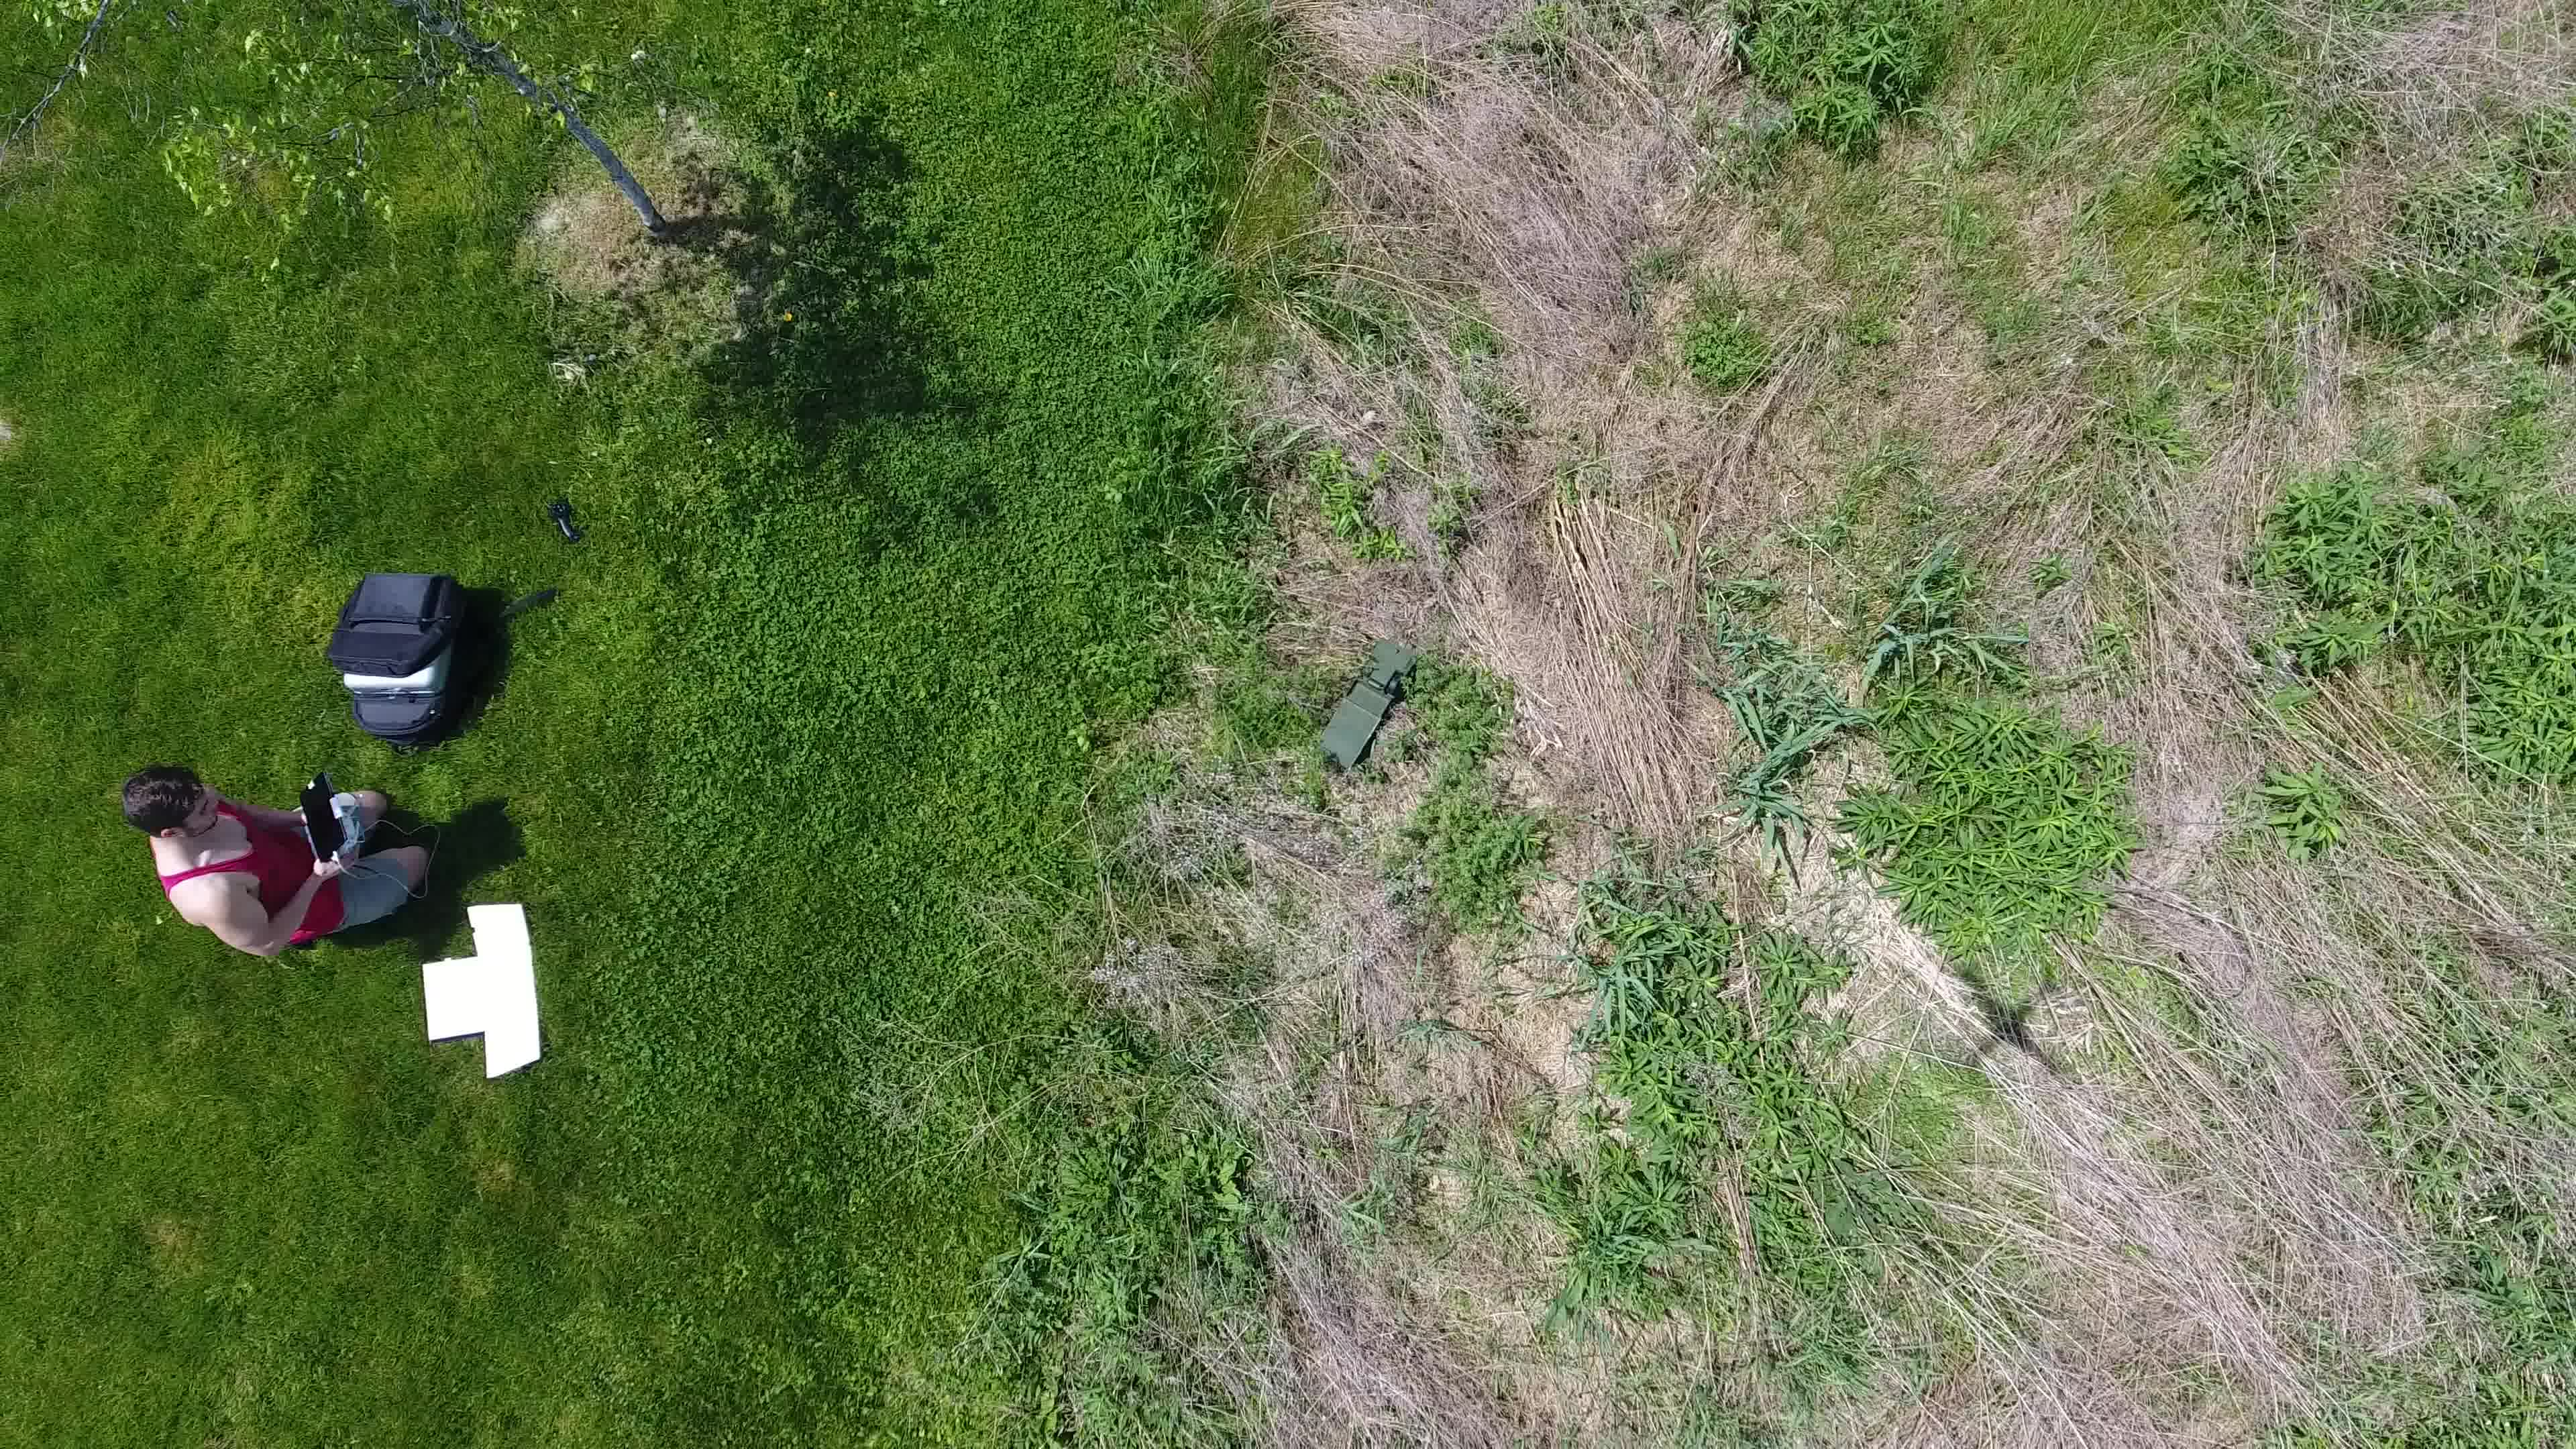transporter9: (1304, 635, 1421, 777)
